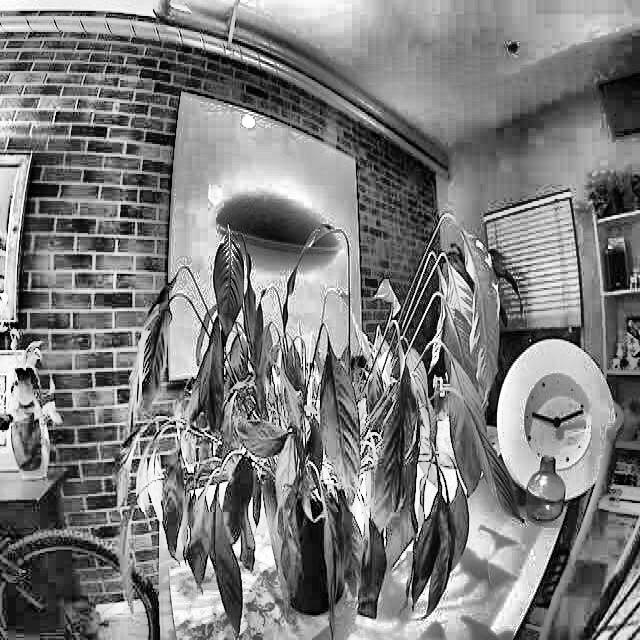plants: (111, 211, 511, 626)
